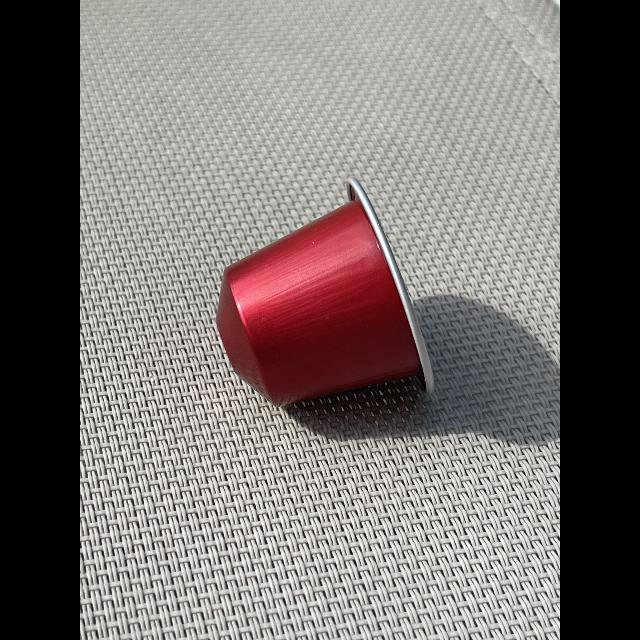intact_capsule: (202, 168, 448, 432)
